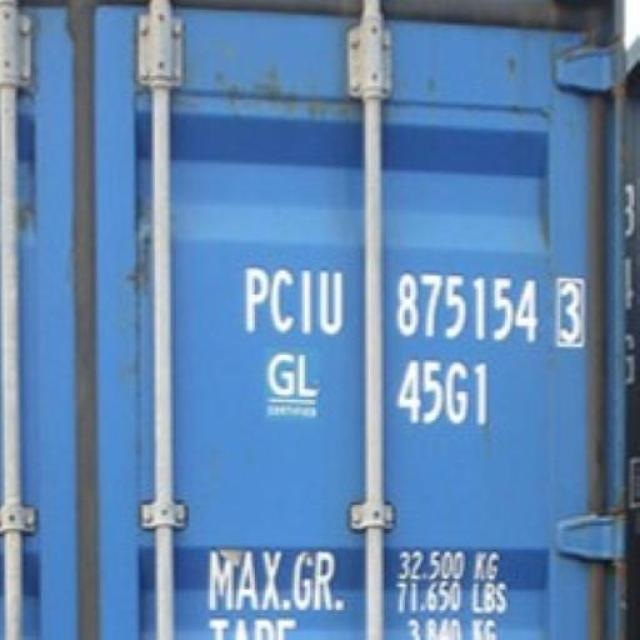ISO: (392, 360, 500, 432)
container_number: (236, 264, 588, 351)
